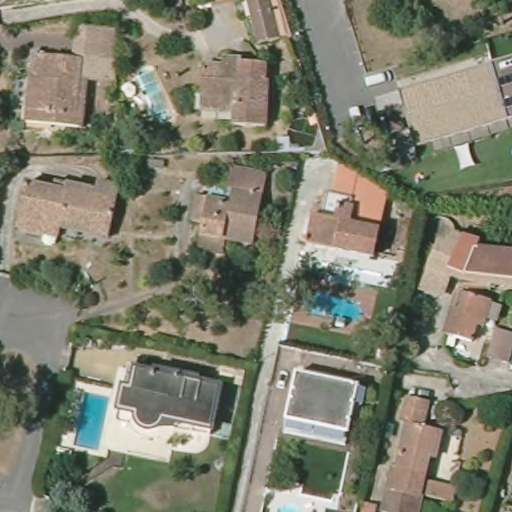pool: (130, 66, 179, 127), (298, 286, 366, 329), (68, 388, 113, 452)
